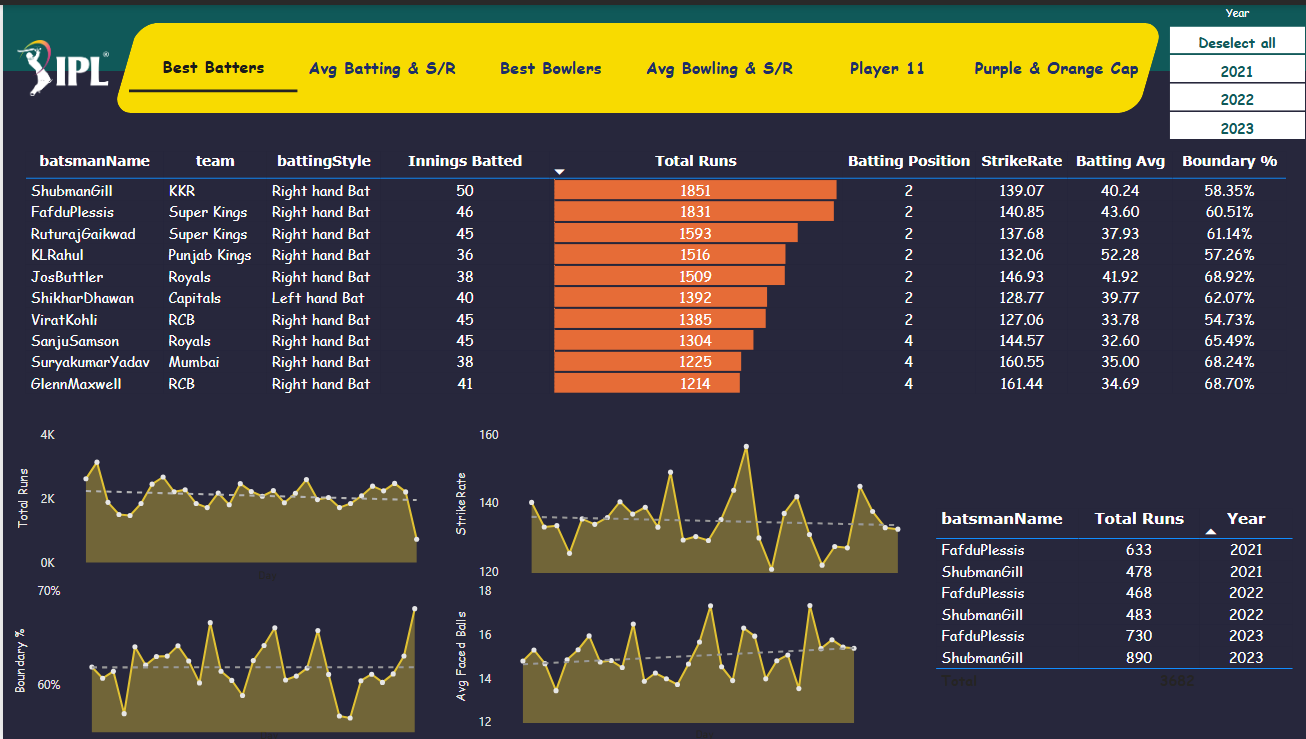

Layout of this report page (visuals, bound fields, positions):
{"tool":"powerbi","page":{"name":"Best Batters","canvas":[1280,720],"ordinal":0},"visuals":[{"type":"shape","box":[0,64.6,1280.5,655.2],"z":0},{"type":"shape","box":[107.1,17.6,1028.7,88],"z":1000},{"type":"image","box":[8.8,24.9,99.8,73.4],"z":2000},{"type":"advancedSlicerVisual","fields":{"Values":["dim_match_summary.matchdate.Variation.Date Hierarchy.Year"]},"box":[1135.8,0,143.8,137.9],"z":3000},{"type":"tableEx","fields":{"Values":["fact_bating_summary.batsmanName","dim_players.team","dim_players.battingStyle","All_Measures.Total Innings Batted","All_Measures.Total Runs","All_Measures.Batting Position","All_Measures.StrikeRate","All_Measures.Batting Avg","All_Measures.Boundary Pct"]},"box":[15.8,138.6,1250.6,272.5],"z":4000},{"type":"lineChart","fields":{"Y":["All_Measures.Boundary %"],"Category":["dim_match_summary.matchdate.Variation.Date Hierarchy.Day"]},"box":[11.7,563,443.2,157],"z":5000},{"type":"lineChart","fields":{"Category":["dim_match_summary.matchdate.Variation.Date Hierarchy.Day"],"Y":["All_Measures.Total Runs"]},"box":[14.7,410.9,443.2,152.6],"z":6000},{"type":"lineChart","fields":{"Y":["All_Measures.Avg Faced Balls"],"Category":["dim_match_summary.matchdate.Variation.Date Hierarchy.Day"]},"box":[442.6,563.9,442.6,155.9],"z":7000},{"type":"lineChart","fields":{"Y":["All_Measures.StrikeRate"],"Category":["dim_match_summary.matchdate.Variation.Date Hierarchy.Day"]},"box":[442.6,411.1,442.6,152.8],"z":8000},{"type":"tableEx","fields":{"Values":["fact_bating_summary.batsmanName","All_Measures.Total Runs","dim_match_summary.matchdate.Variation.Date Hierarchy.Year"]},"box":[906.9,487.2,359.5,220.1],"z":9000},{"type":"pageNavigator","box":[123.3,36.7,994.9,49.9],"z":10000}]}

Visuals, with their boxes in screenshot pixels (x1, y1, x2, y2), scaled from the page's 1280x720 canvas onto the 1306x739 screenshot:
shape: 0,66,1305,738
shape: 109,18,1159,108
image: 9,26,111,101
advancedSlicerVisual - dim_match_summary.matchdate.Variation.Date Hierarchy.Year: 1159,0,1305,142
tableEx - fact_bating_summary.batsmanName x dim_players.team: 16,142,1292,422
lineChart - All_Measures.Boundary % x dim_match_summary.matchdate.Variation.Date Hierarchy.Day: 12,578,464,738
lineChart - dim_match_summary.matchdate.Variation.Date Hierarchy.Day x All_Measures.Total Runs: 15,422,467,578
lineChart - All_Measures.Avg Faced Balls x dim_match_summary.matchdate.Variation.Date Hierarchy.Day: 452,579,903,738
lineChart - All_Measures.StrikeRate x dim_match_summary.matchdate.Variation.Date Hierarchy.Day: 452,422,903,579
tableEx - fact_bating_summary.batsmanName x All_Measures.Total Runs: 925,500,1292,726
pageNavigator: 126,38,1141,89
